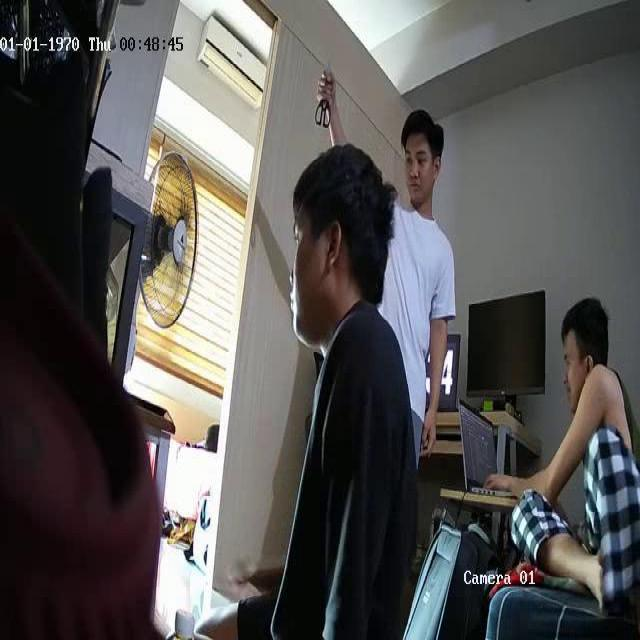scissor: (315, 61, 333, 128)
